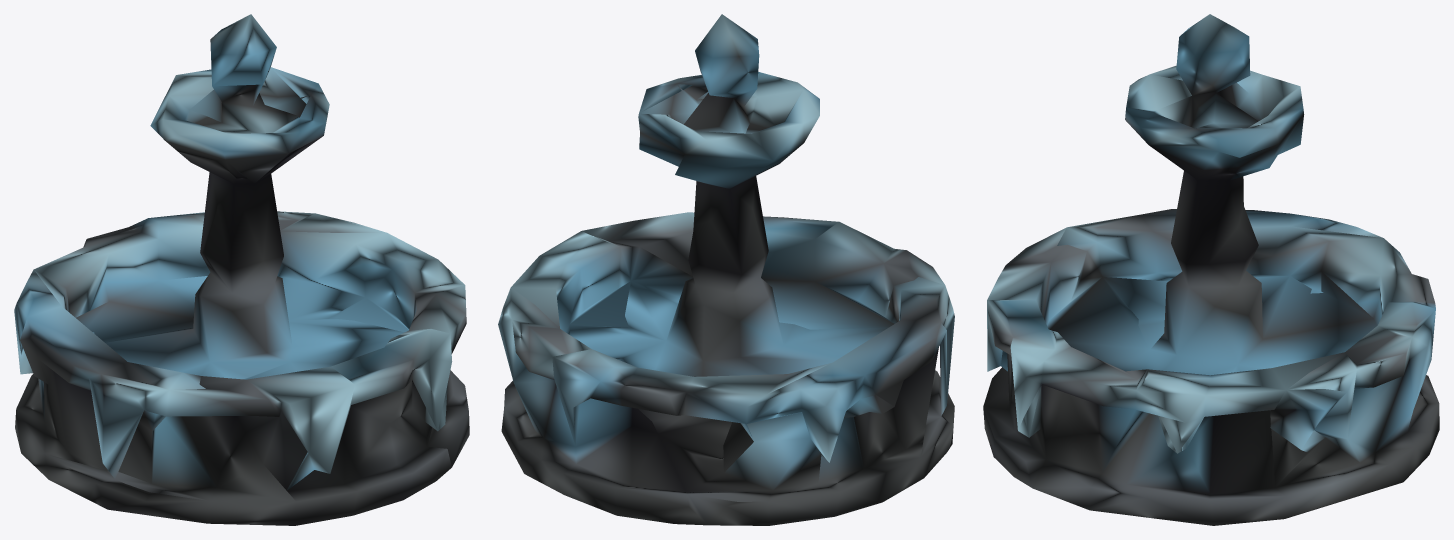
Rendered from gen3d-frozen-fountain-lod1.glb.
The picture shows the model from 3 angles, left to right: view 1: azimuth 30°, elevation 25°; view 2: azimuth 150°, elevation 25°; view 3: azimuth 270°, elevation 25°; orthographic projection.
Parts seen in each view (by area): view 1: part_0; view 2: part_0; view 3: part_0.
Part boxes in pixels (x1=…): part_0: x1=14, y1=14, x2=469, y2=525; part_0: x1=498, y1=14, x2=954, y2=525; part_0: x1=983, y1=14, x2=1439, y2=525.
Bounding box in the file's own units: 0.9366 × 0.9553 × 0.9387.
